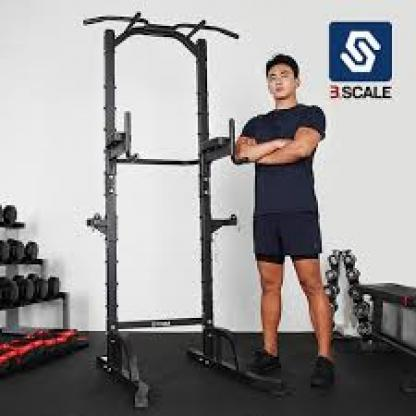chinning dipping: (84, 12, 240, 410)
